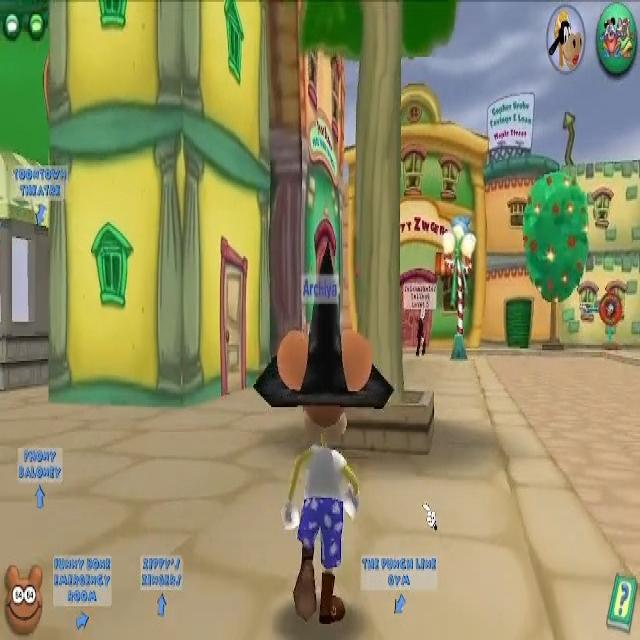telemarketer: (404, 282, 436, 359)
